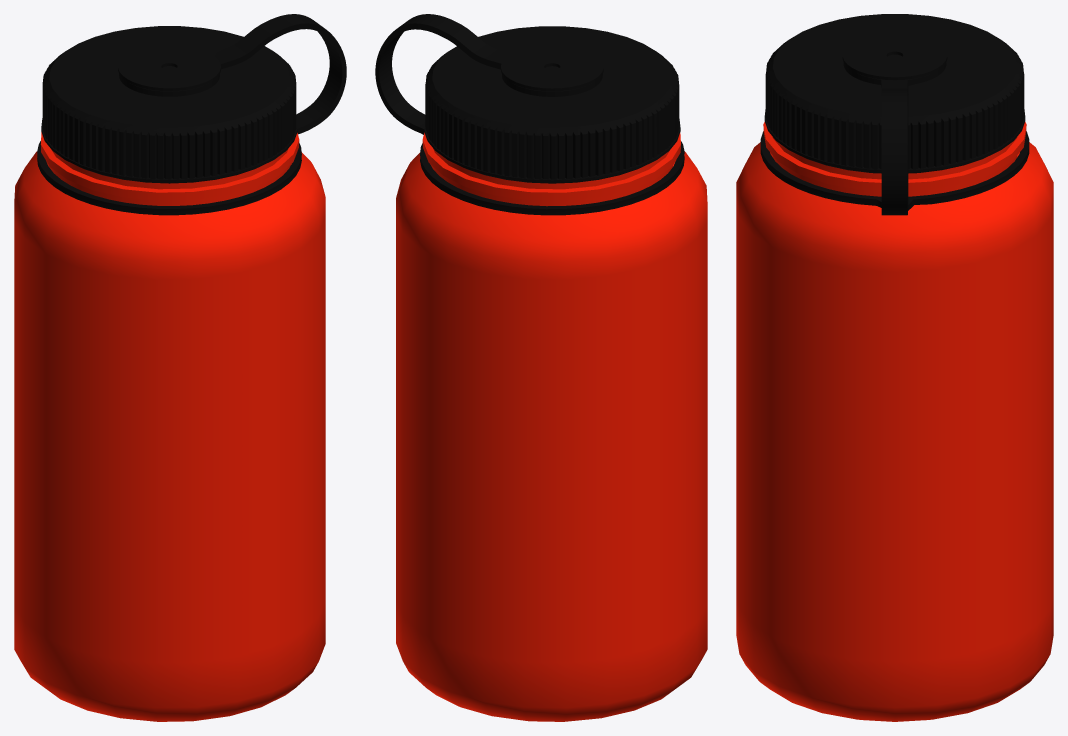
File: Nalgene_0001.fbx
The picture shows the model from 3 angles, left to right: view 1: azimuth 30°, elevation 25°; view 2: azimuth 150°, elevation 25°; view 3: azimuth 270°, elevation 25°; orthographic projection.
Parts seen in each view (by area): view 1: Bottle, Cap, Connection; view 2: Bottle, Cap, Connection; view 3: Bottle, Cap, Connection.
Part boxes in pixels (left/top/right/bottom): Bottle: left=14, top=132, right=325, bottom=721; Cap: left=41, top=26, right=297, bottom=183; Connection: left=37, top=14, right=346, bottom=215; Bottle: left=396, top=132, right=707, bottom=721; Cap: left=424, top=26, right=680, bottom=183; Connection: left=375, top=14, right=684, bottom=215; Bottle: left=736, top=122, right=1053, bottom=721; Cap: left=764, top=14, right=1025, bottom=173; Connection: left=760, top=63, right=1029, bottom=215.
Bounding box in the file's own units: 11.1 × 21.62 × 9.83.
